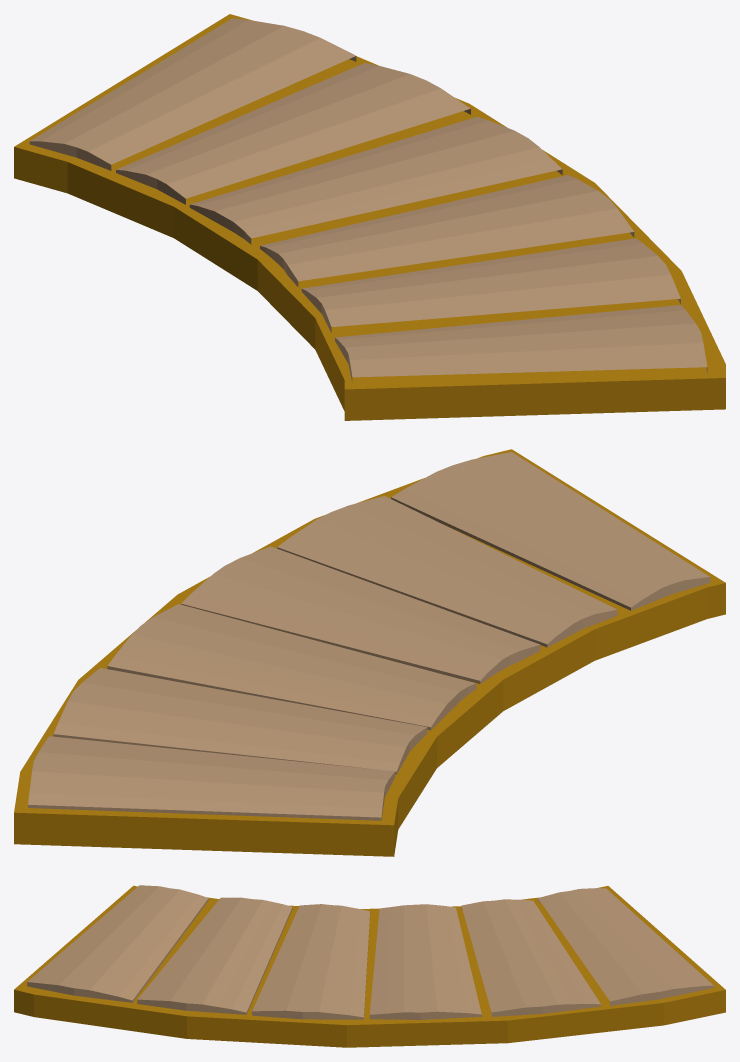
File: 1-circle-bitkisiz.fbx
3 views of the same model, one above another, from view 1: azimuth 30°, elevation 25°; view 2: azimuth 150°, elevation 25°; view 3: azimuth 270°, elevation 25° (orthographic). The views are drawn at different scales.
Parts seen in each view (by area): view 1: Cylinder.049; view 2: Cylinder.049; view 3: Cylinder.049.
Boxes of the visible parts, <box> form: Cylinder.049: <box>14,14,725,420</box>; Cylinder.049: <box>14,449,725,856</box>; Cylinder.049: <box>14,885,725,1047</box>.
Bounding box in the file's own units: 1325 × 133 × 2856.
